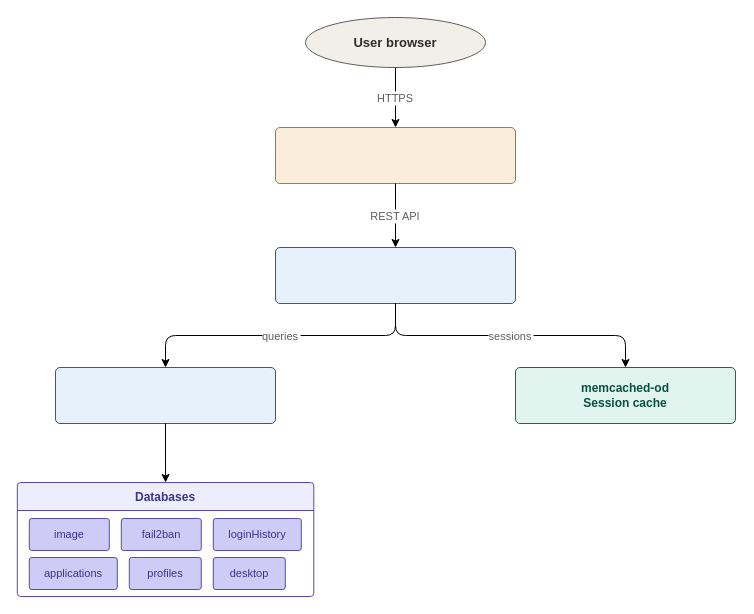
Image size: 754x614. Some labels were removed from this diagram. The box of each missing label's shape, as (x1, y1, x2, y2) in pixels:
mongodb-od StatefulSet · rs0: (54, 366, 276, 424)
pyos-od Python control plane: (274, 246, 516, 304)
router-od nginx / OpenResty: (274, 126, 516, 184)
